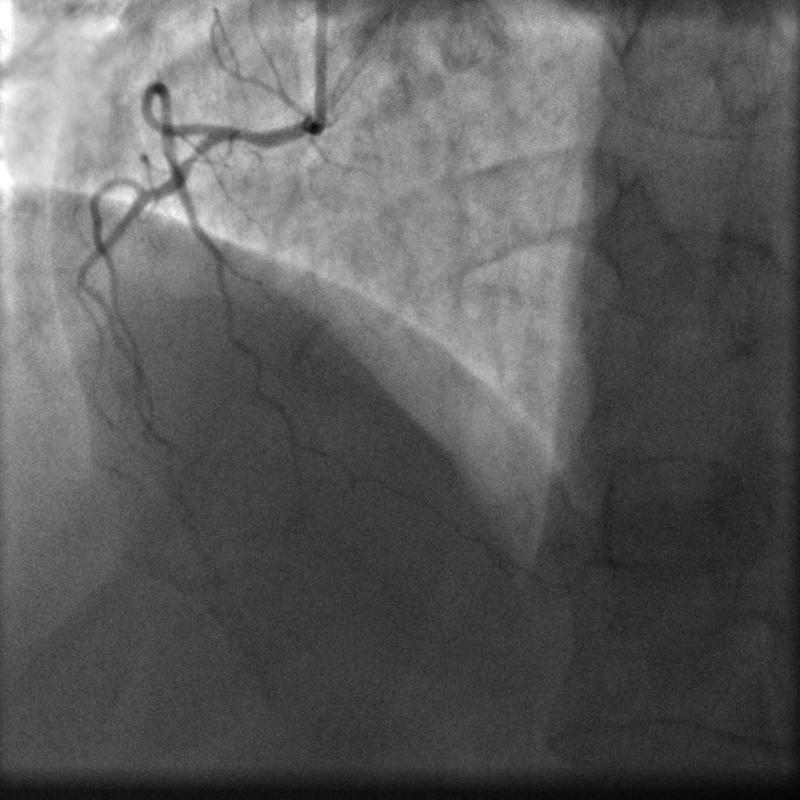Stenosis: (215, 114, 260, 150)
